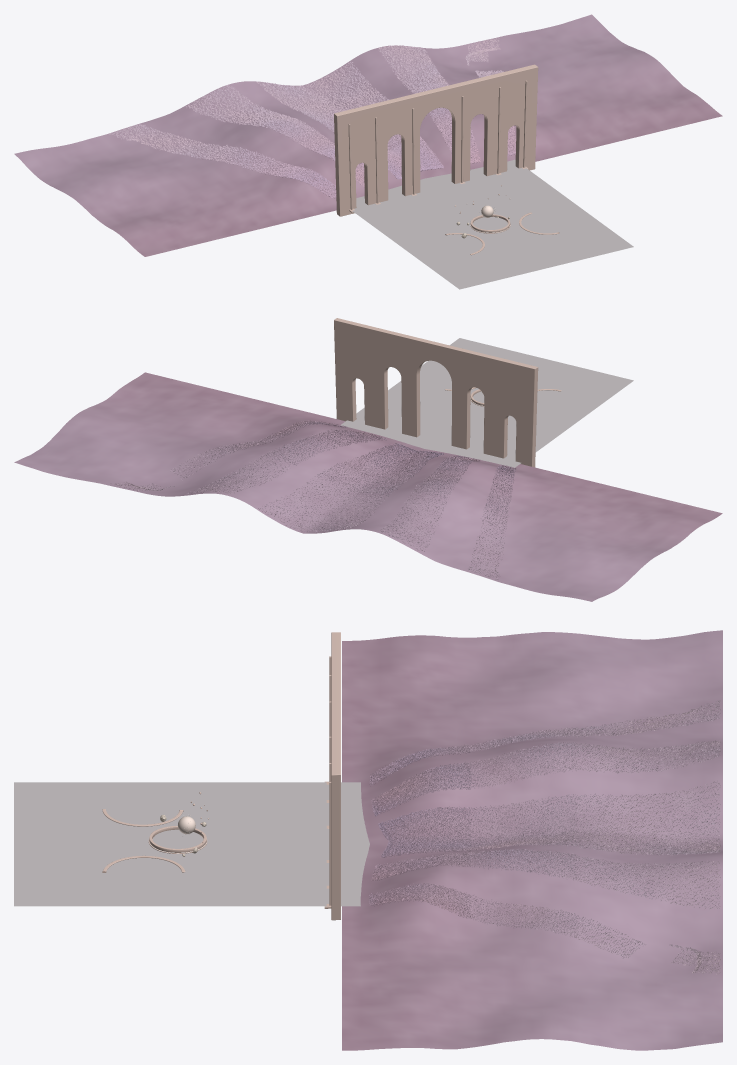
Rendered from environment.glb.
3 renders of one model, top to bottom at view 1: azimuth 30°, elevation 25°; view 2: azimuth 150°, elevation 25°; view 3: azimuth 270°, elevation 25°, orthographic. The views are drawn at different scales.
Parts seen in each view (by area): view 1: Landscape | rolling rose garden ridges, Water | submerged limestone floor, Atrium | monolithic blush limestone, Landscape | blush five petal blossoms; view 2: Landscape | rolling rose garden ridges, Atrium | monolithic blush limestone, Water | submerged limestone floor, Landscape | blush five petal blossoms, Landscape | layered lilac flowering canopies; view 3: Landscape | rolling rose garden ridges, Water | submerged limestone floor, Landscape | blush five petal blossoms, Landscape | layered lilac flowering canopies, Atrium | monolithic blush limestone, Water | central basin floor.
Boxes of the visible parts, left/top/right/bottom form: Landscape | rolling rose garden ridges: left=14, top=14, right=722, bottom=256; Water | submerged limestone floor: left=352, top=159, right=633, bottom=289; Atrium | monolithic blush limestone: left=334, top=64, right=538, bottom=216; Landscape | blush five petal blossoms: left=109, top=37, right=515, bottom=198; Landscape | rolling rose garden ridges: left=14, top=372, right=722, bottom=601; Atrium | monolithic blush limestone: left=334, top=318, right=538, bottom=467; Water | submerged limestone floor: left=341, top=338, right=633, bottom=467; Landscape | blush five petal blossoms: left=114, top=420, right=516, bottom=580; Landscape | layered lilac flowering canopies: left=205, top=422, right=515, bottom=530; Landscape | rolling rose garden ridges: left=342, top=630, right=722, bottom=1050; Water | submerged limestone floor: left=14, top=782, right=369, bottom=906; Landscape | blush five petal blossoms: left=369, top=700, right=720, bottom=974; Landscape | layered lilac flowering canopies: left=369, top=730, right=576, bottom=937; Atrium | monolithic blush limestone: left=331, top=632, right=340, bottom=920; Water | central basin floor: left=152, top=829, right=203, bottom=848.
Size of the model in its own units: 166 by 27.86 by 121.
